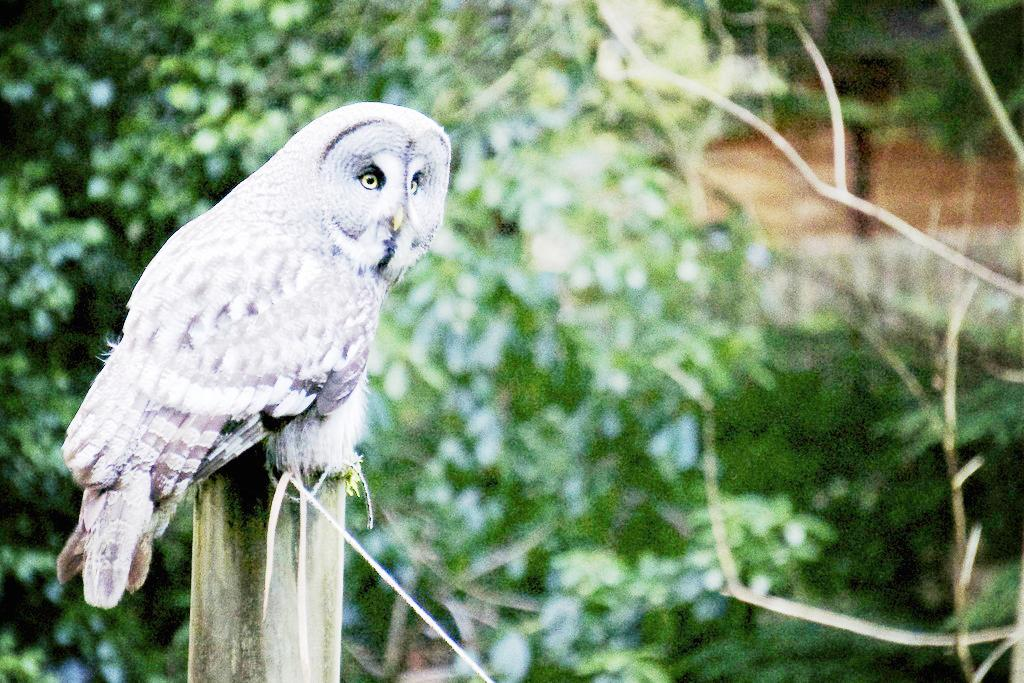Owl: (57, 98, 456, 616)
